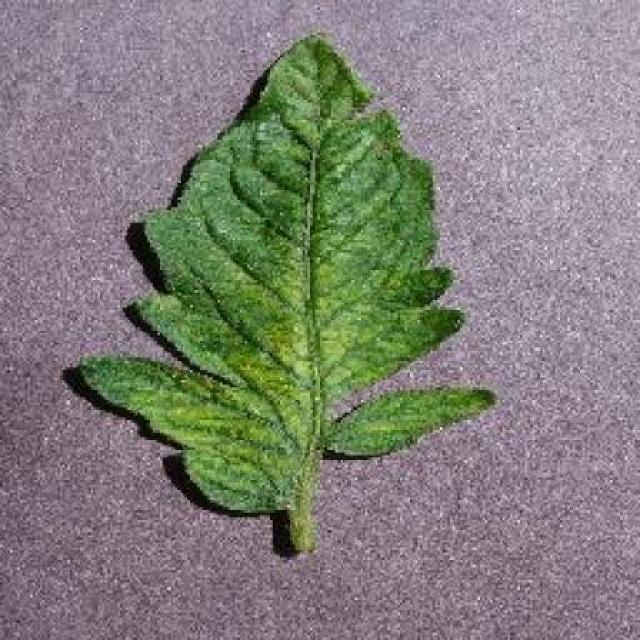Mosaic Virus: (79, 31, 498, 516)
